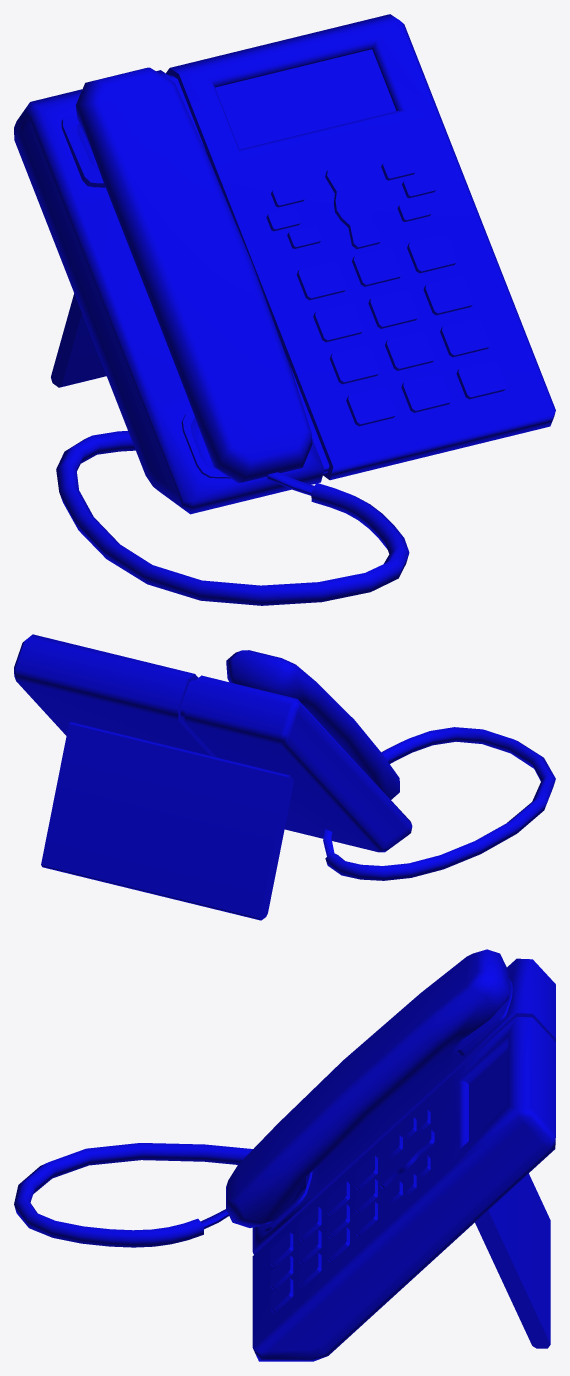
File: phone.fbx
The picture shows the model from 3 angles, top to bottom: view 1: azimuth 30°, elevation 25°; view 2: azimuth 150°, elevation 25°; view 3: azimuth 270°, elevation 25°; orthographic projection. The views are drawn at different scales.
Parts seen in each view (by area): view 1: phone; view 2: phone; view 3: phone.
Boxes of the visible parts, x1,y1,x2,y2 form: phone: (14,14,555,605); phone: (14,634,555,920); phone: (14,949,555,1361).
Bounding box in the file's own units: 26.08 × 16.76 × 29.51.
